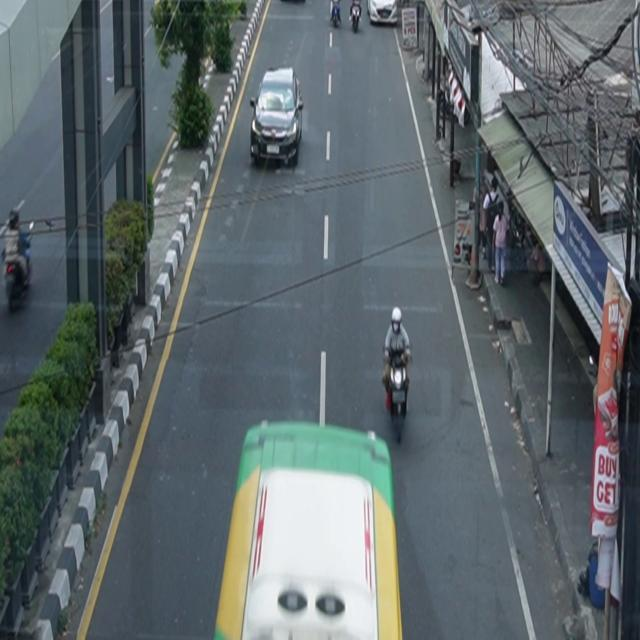bus: (214, 419, 404, 640)
car: (250, 67, 305, 168), (367, 1, 398, 26)
